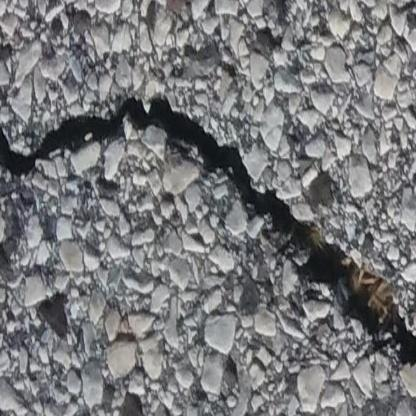Cracks: (0, 95, 416, 381)
